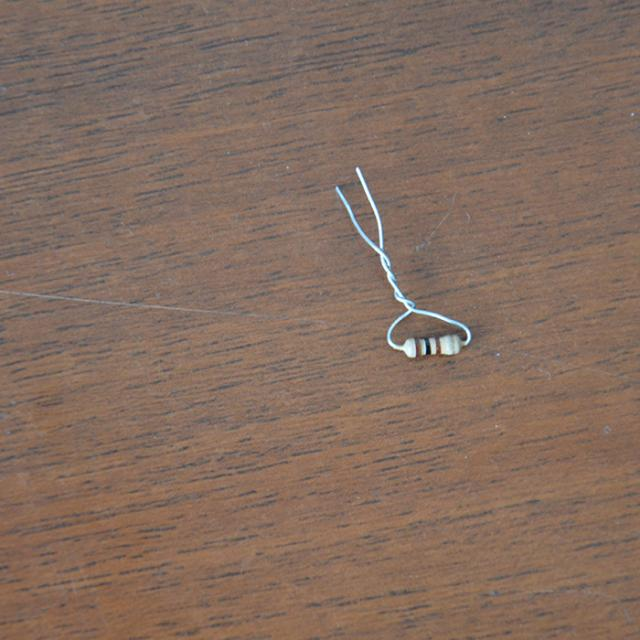Resistor Carbon-Film: (404, 332, 468, 360)
